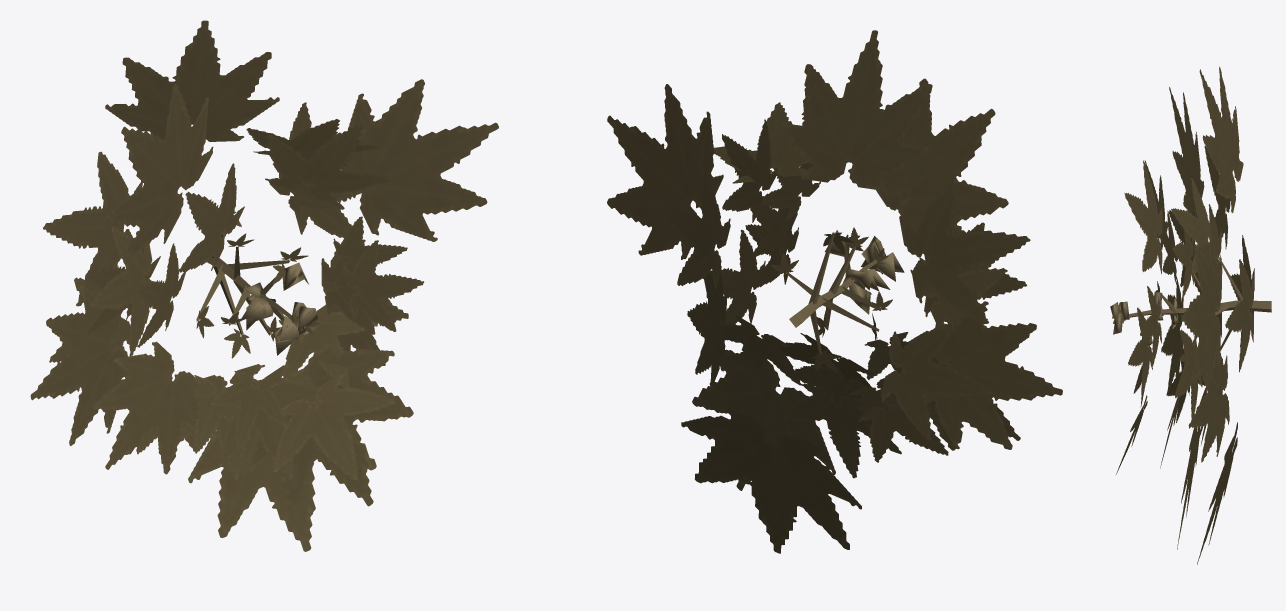
The model's file is p_male_hybrid_preflower_c4_cards.obj.
3 views of the same model, side by side, from view 1: azimuth 30°, elevation 25°; view 2: azimuth 150°, elevation 25°; view 3: azimuth 270°, elevation 25° (orthographic). The views are drawn at different scales.
Bounding box in the file's own units: 1.42 × 1.56 × 0.465.
Materials: 1 (1 with a texture image).
